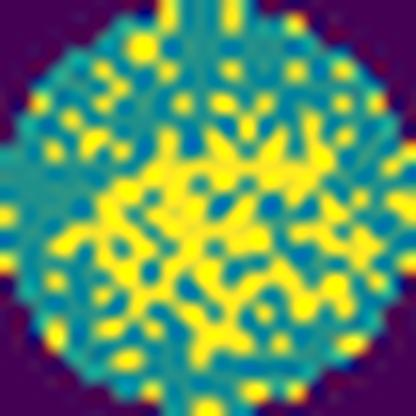Random: (39, 74, 415, 378)
